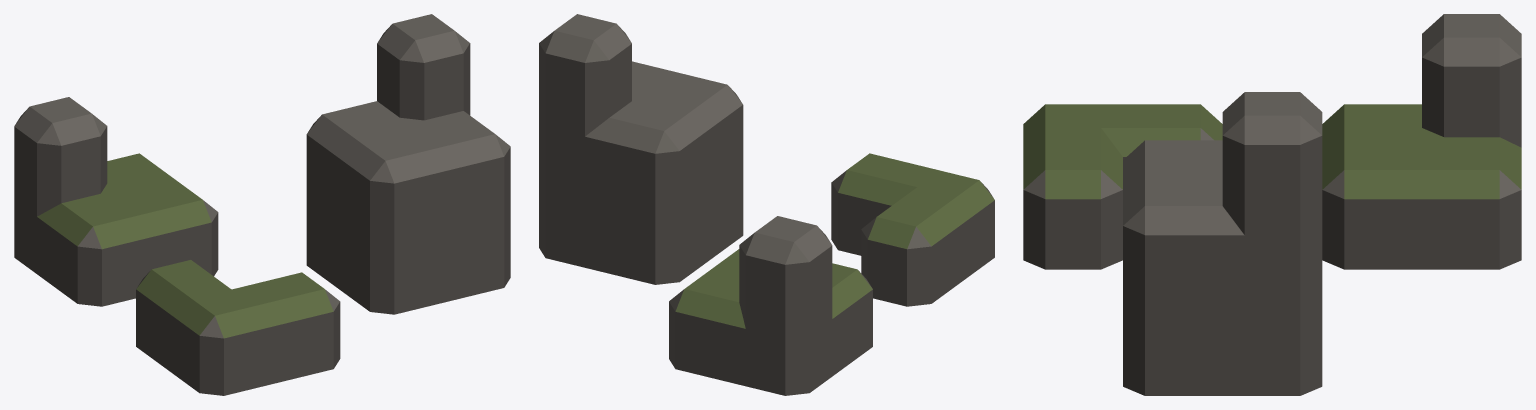
Rendered from stone_debris_trio.glb.
3 views of the same model, side by side, from view 1: azimuth 30°, elevation 25°; view 2: azimuth 150°, elevation 25°; view 3: azimuth 270°, elevation 25° (orthographic). The views are drawn at different scales.
Parts seen in each view (by area): view 1: stone_debris_trio; view 2: stone_debris_trio; view 3: stone_debris_trio.
Boxes of the visible parts, x1,y1,x2,y2 form: stone_debris_trio: (14,14,510,395); stone_debris_trio: (539,14,994,395); stone_debris_trio: (1023,14,1521,395).
Size of the model in its own units: 0.5 by 0.3 by 0.5.
1 material, 1 textured.
